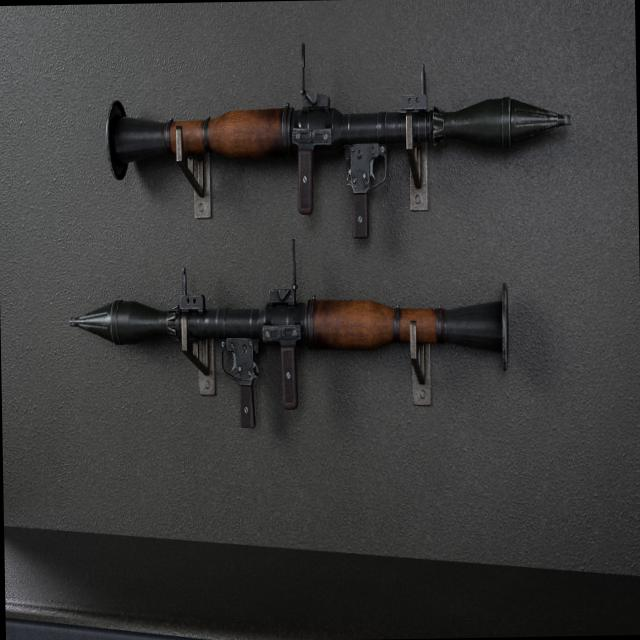Gun: (100, 70, 588, 264), (66, 271, 529, 461)
